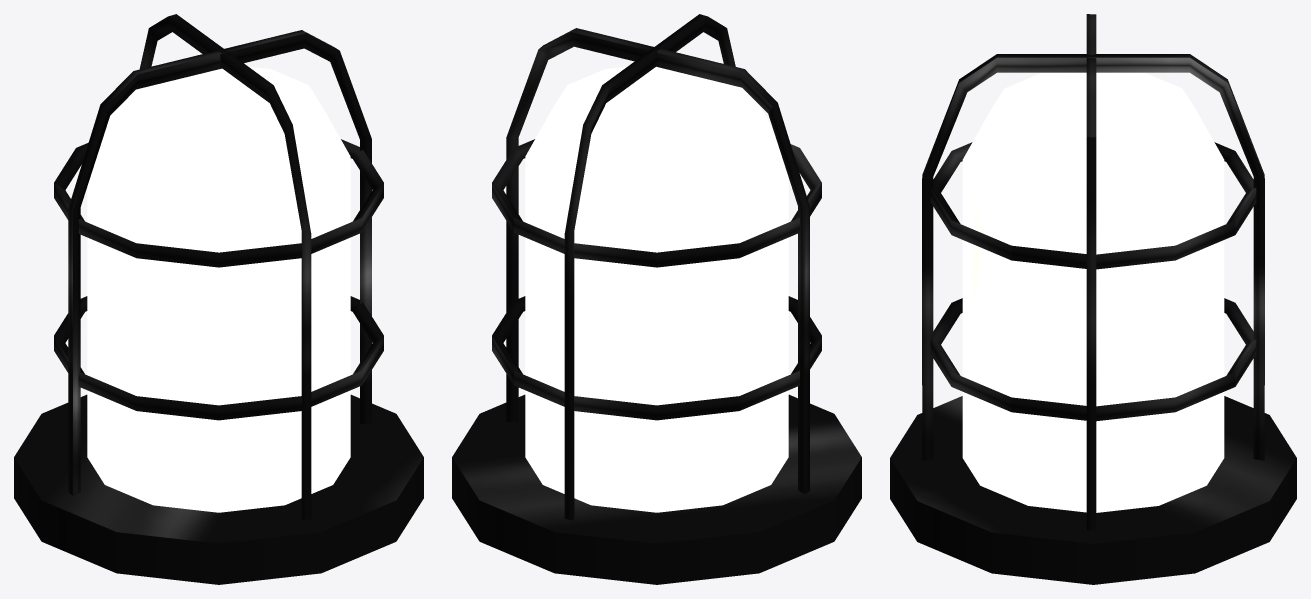
Rendered from light_emergencyB.fbx.
3 renders of one model, left to right at view 1: azimuth 30°, elevation 25°; view 2: azimuth 150°, elevation 25°; view 3: azimuth 270°, elevation 25°, orthographic.
Parts seen in each view (by area): view 1: light_emergency.001; view 2: light_emergency.001; view 3: light_emergency.001.
Boxes of the visible parts, <box> form: light_emergency.001: <box>14,14,423,584</box>; light_emergency.001: <box>452,14,861,584</box>; light_emergency.001: <box>890,14,1296,584</box>.
Size of the model in its own units: 18.95 by 22.82 by 18.95.
1 material, 1 textured.
